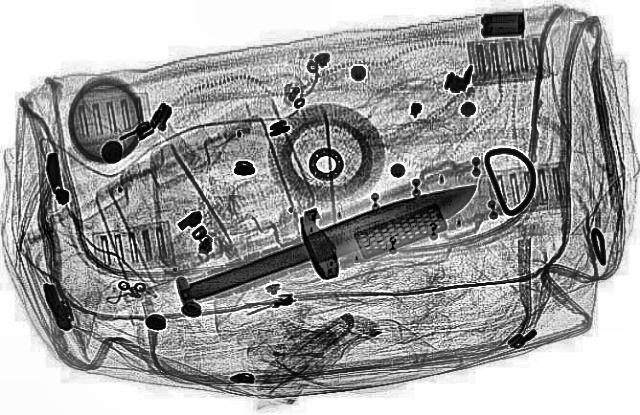Knife: (136, 154, 514, 332)
